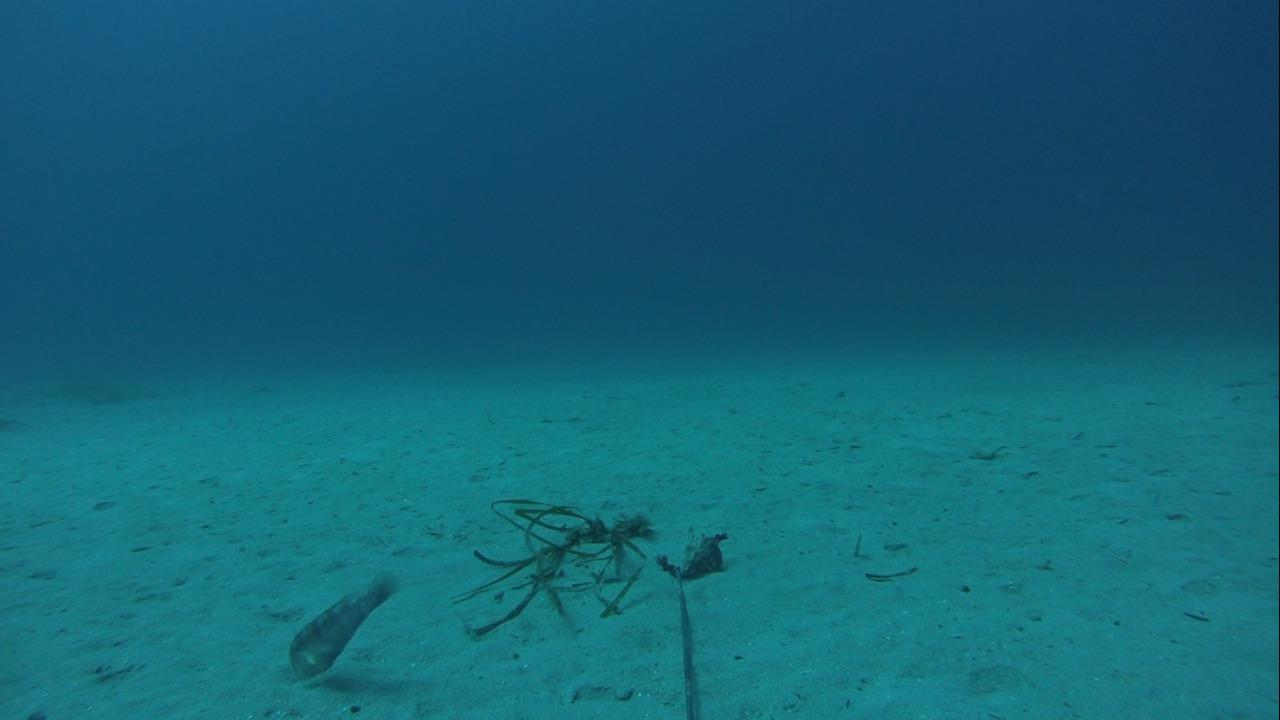raor: (285, 569, 397, 682)
